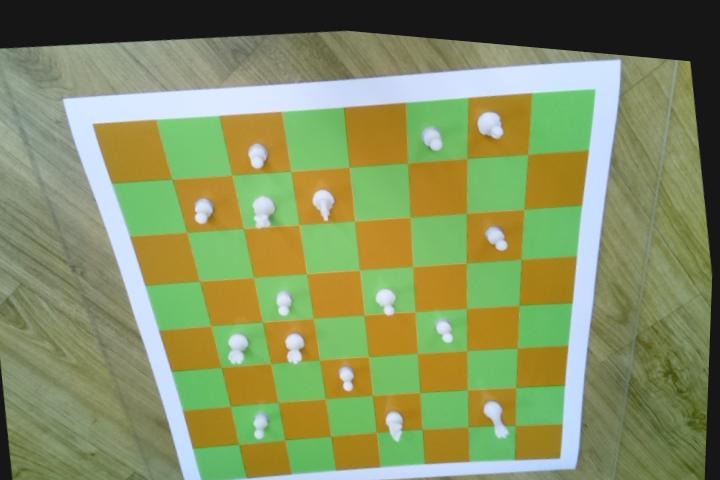chessboard-detect: (93, 76, 596, 480)
